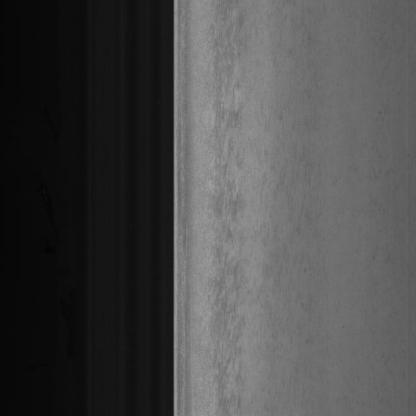silk_spot: (200, 49, 250, 416)
